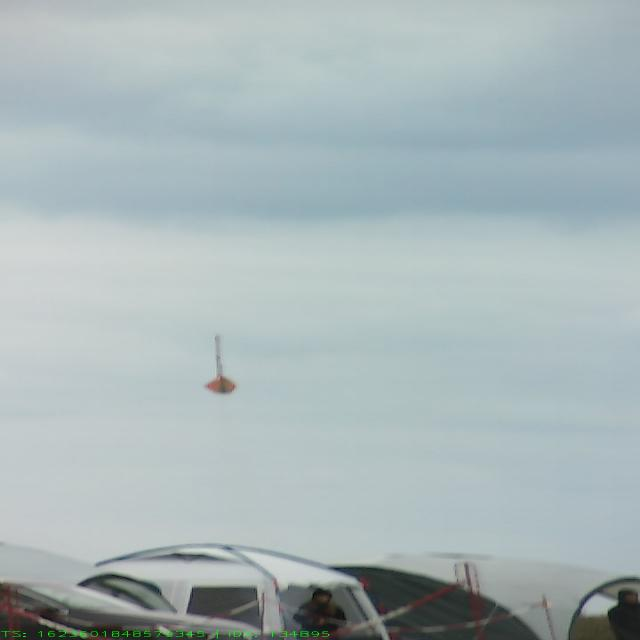Rocket: (205, 333, 238, 395)
